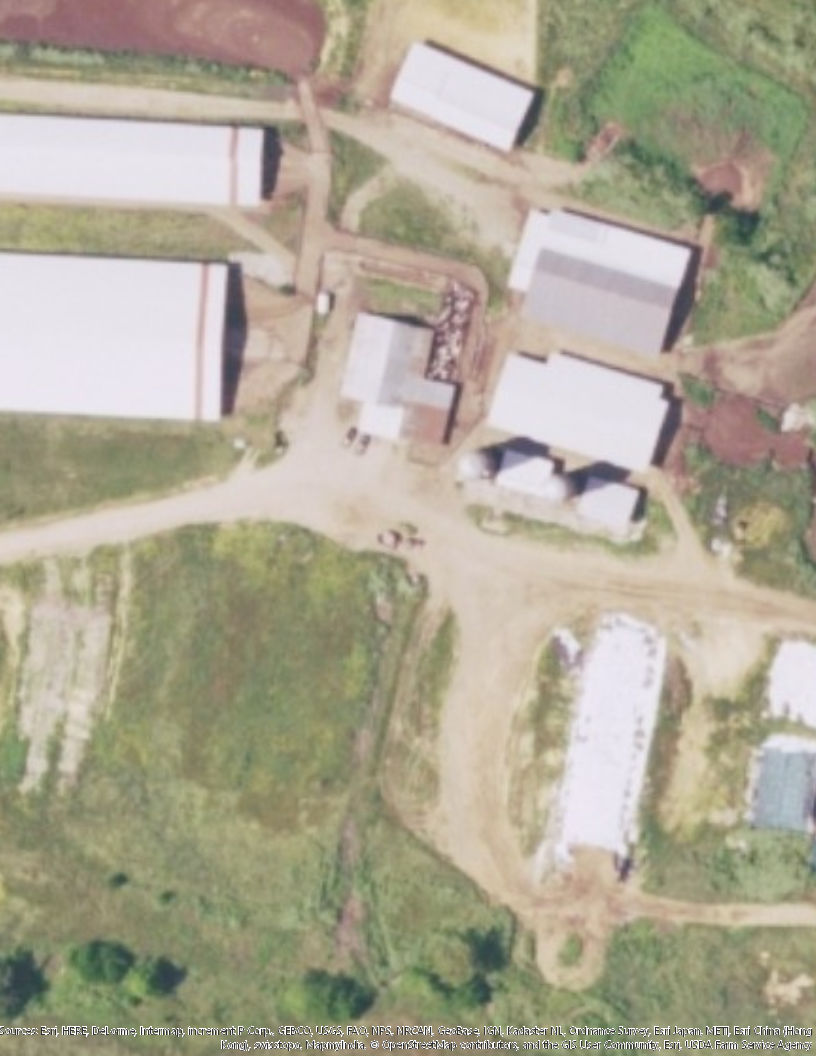cafo: (1, 253, 246, 432), (500, 198, 704, 362), (558, 599, 682, 868), (344, 250, 483, 466), (484, 338, 690, 477), (1, 107, 277, 208), (380, 33, 543, 163)
